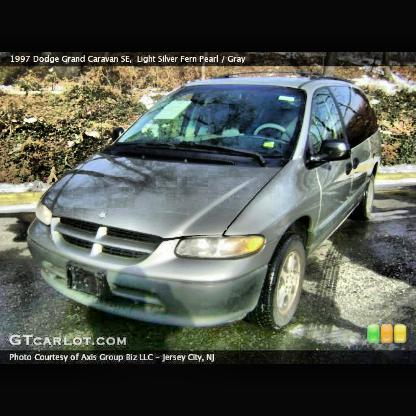Dodge Caravan Minivan 1997: (29, 78, 384, 336)
